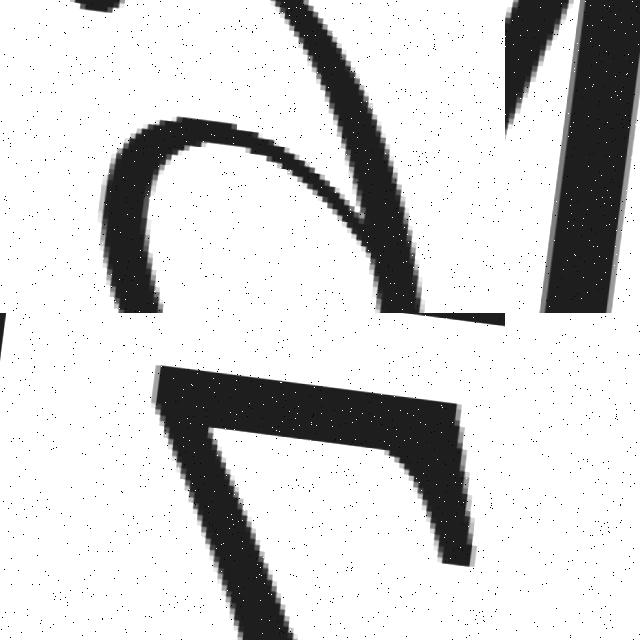6: (0, 0, 489, 313)
7: (91, 348, 503, 640)
L: (505, 313, 640, 640)
M: (505, 0, 640, 313)
